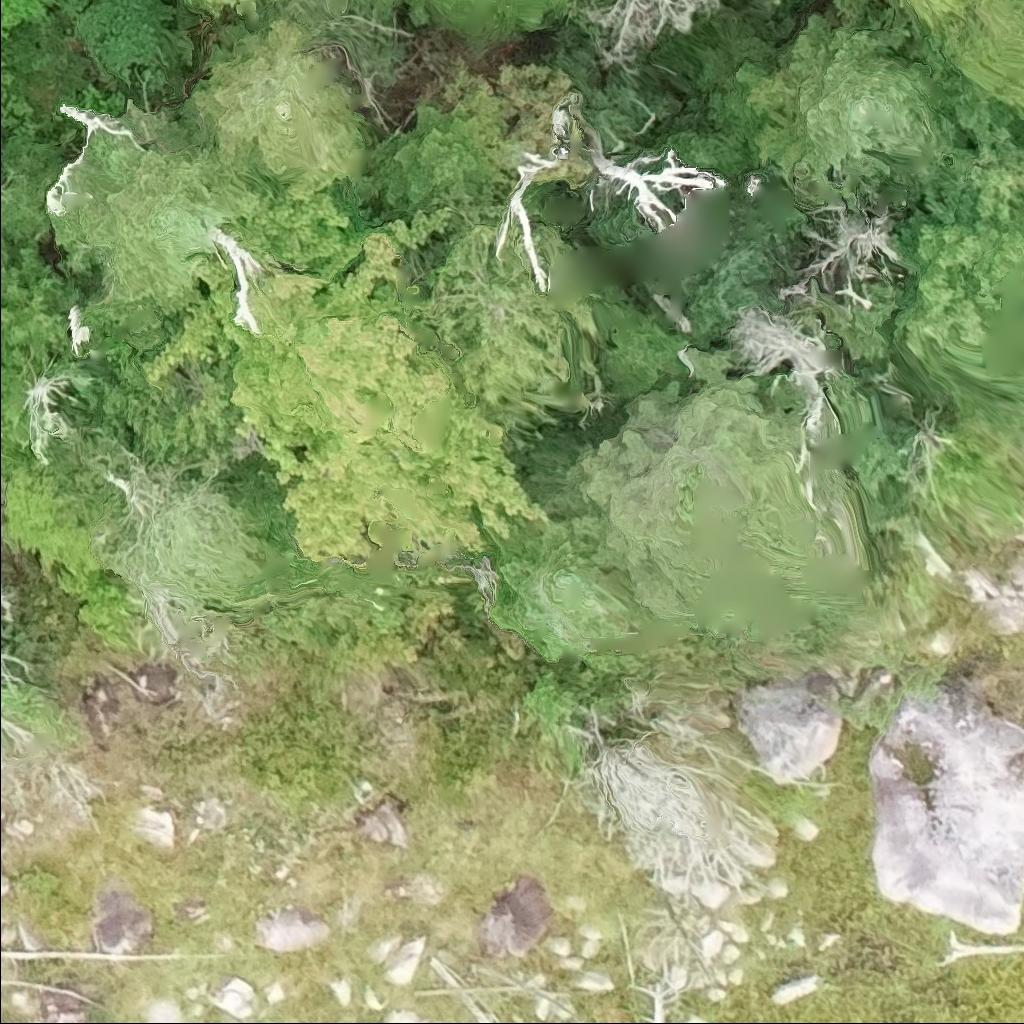crown: (709, 9, 951, 192), (578, 0, 726, 65), (371, 0, 559, 30), (831, 0, 970, 36), (185, 0, 271, 19)
